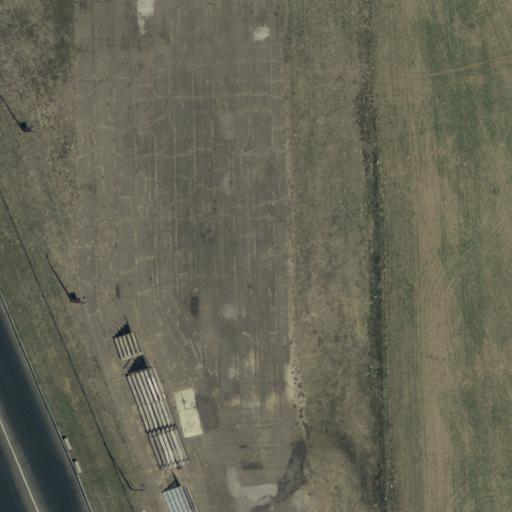DT: (65, 288, 90, 315), (13, 118, 40, 140)
